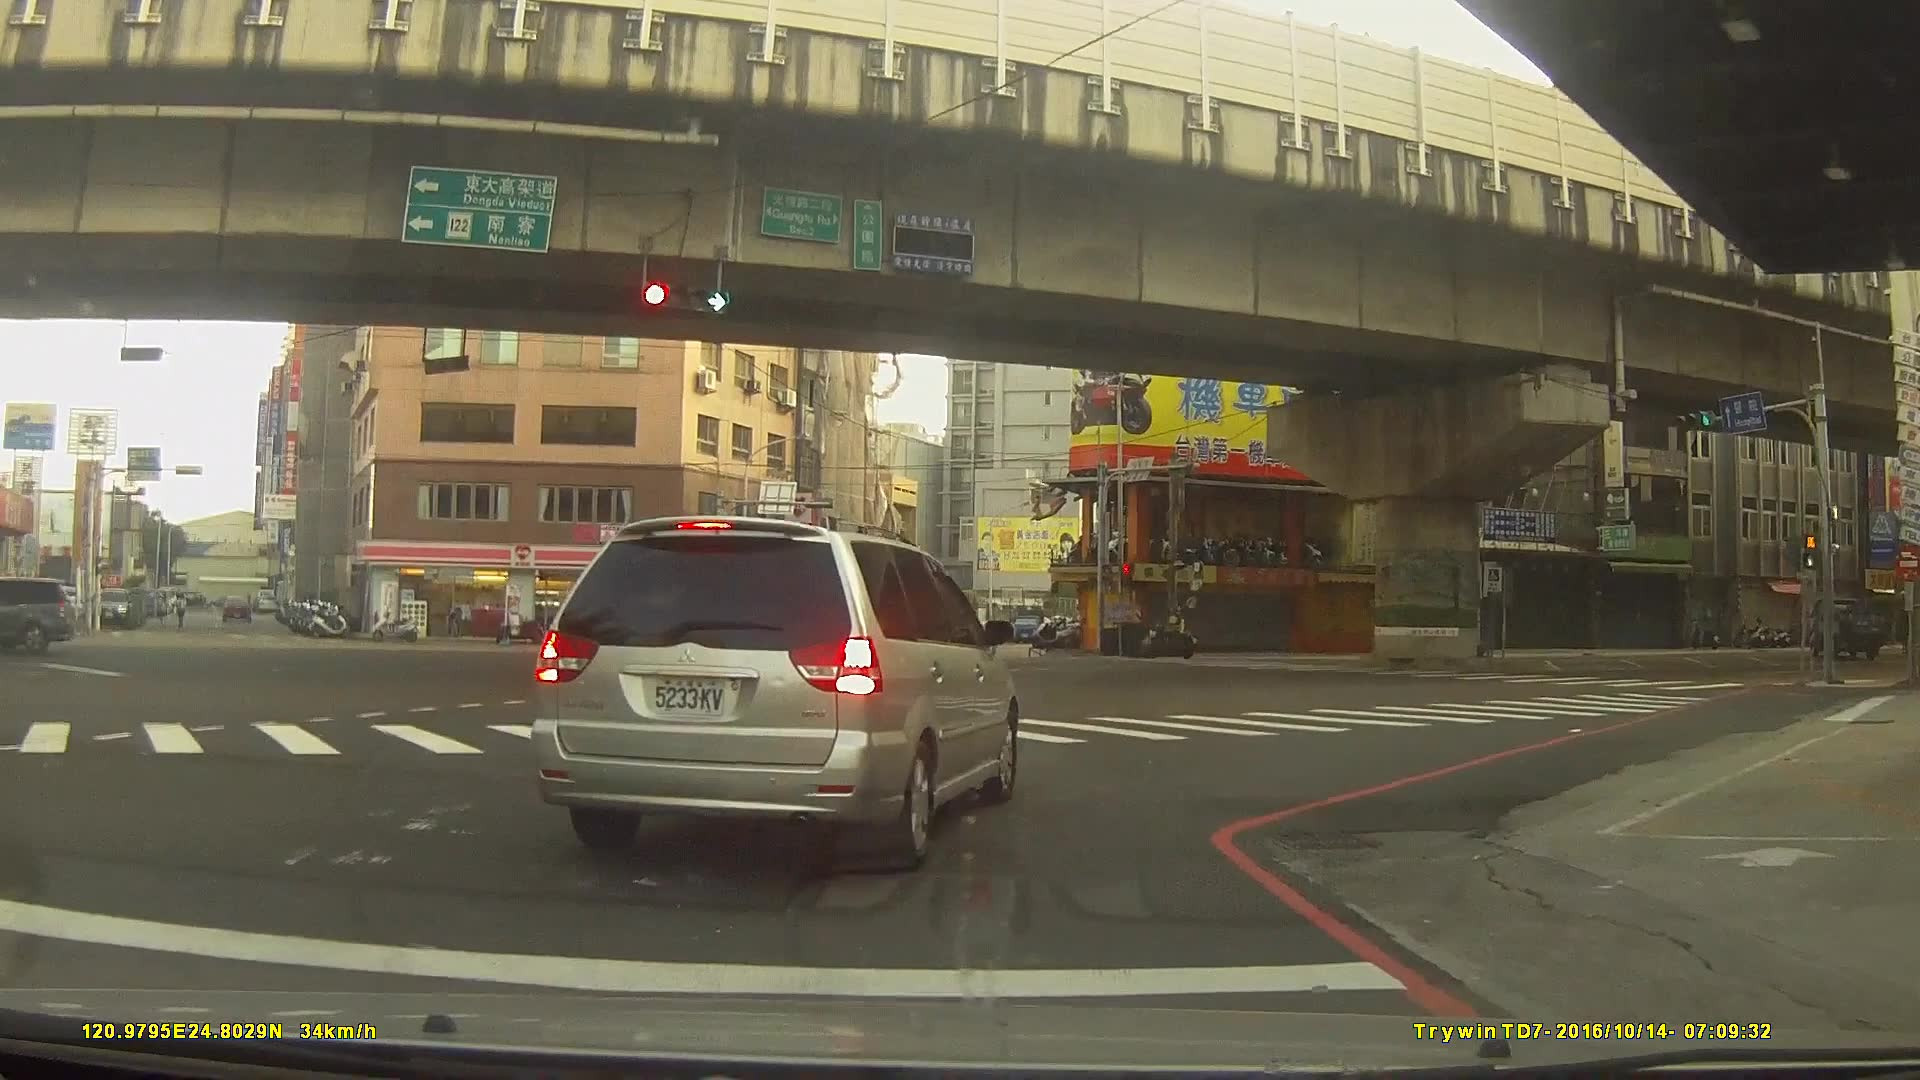rider: (1142, 602, 1199, 659)
vehicle: (526, 513, 1019, 869), (0, 572, 75, 653), (1801, 593, 1880, 658), (868, 622, 935, 660), (87, 586, 130, 631), (543, 606, 605, 633), (215, 592, 250, 623)
